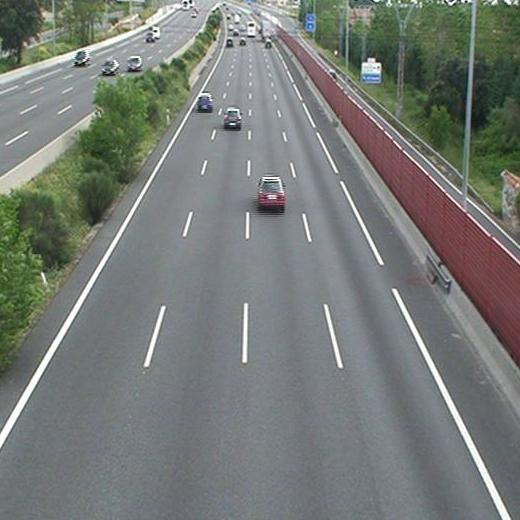bus: (247, 21, 255, 37)
car: (258, 177, 284, 207), (224, 109, 240, 127), (197, 94, 212, 110), (225, 37, 234, 48)
